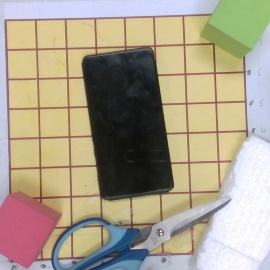phone: (81, 47, 174, 200)
